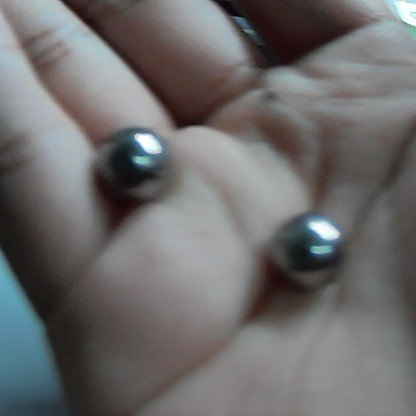ironball: (89, 119, 191, 195), (282, 206, 340, 294)
